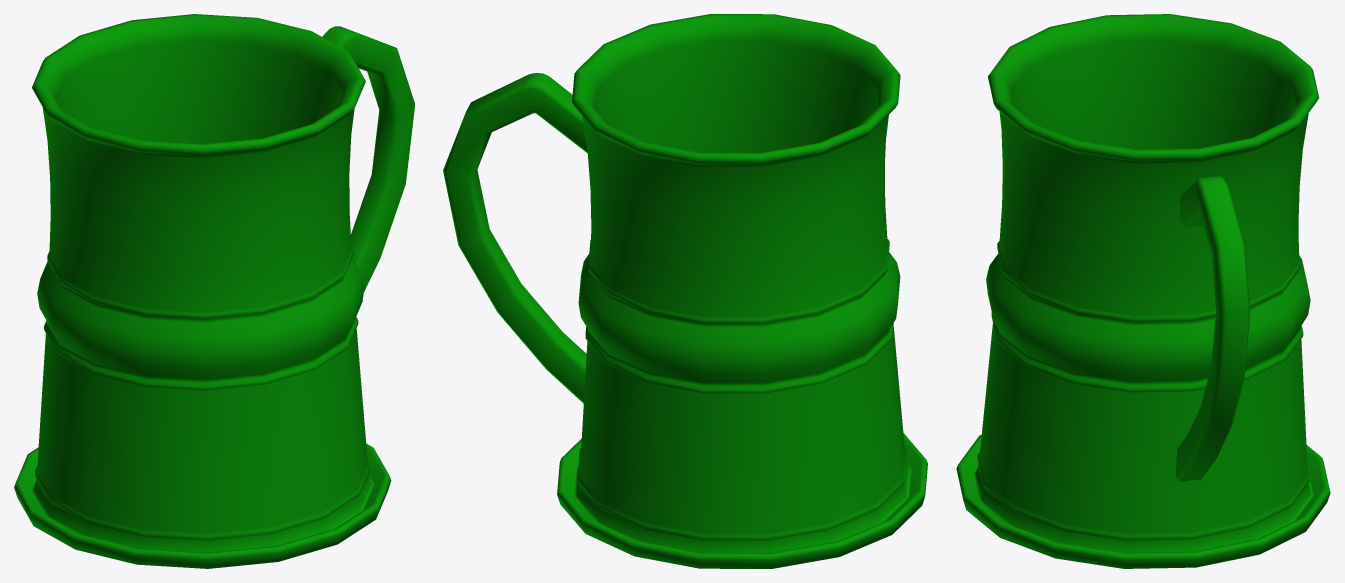
The model's file is SM_Mug.fbx.
3 views of the same model, side by side, from view 1: azimuth 30°, elevation 25°; view 2: azimuth 150°, elevation 25°; view 3: azimuth 270°, elevation 25° (orthographic).
Visible parts, largest first — view 1: SM_Mug; view 2: SM_Mug; view 3: SM_Mug.
Boxes of the visible parts, x1,y1,x2,y2 form: SM_Mug: [14, 14, 414, 568]; SM_Mug: [443, 14, 927, 568]; SM_Mug: [956, 14, 1330, 568].
Size of the model in its own units: 18.67 by 14.56 by 18.05.
